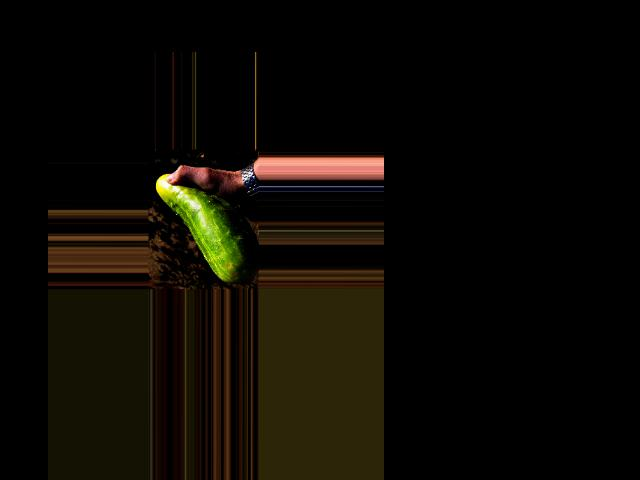cucumber: (155, 173, 259, 285)
